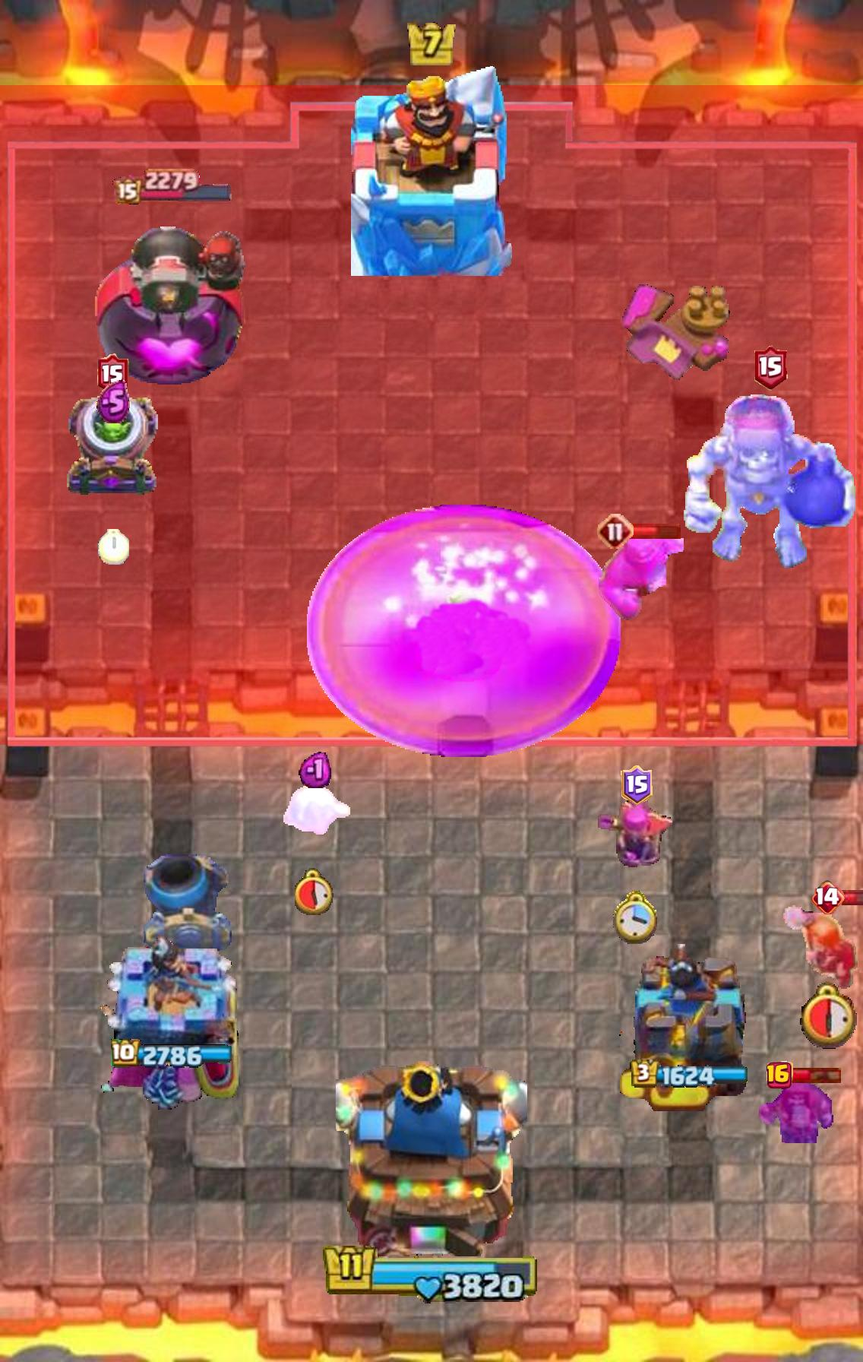bar: (789, 1066, 843, 1084), (630, 523, 681, 540), (842, 889, 863, 906)
bar-level: (754, 345, 788, 391), (597, 513, 634, 550), (97, 353, 129, 394), (621, 766, 653, 806), (811, 880, 845, 914), (766, 1061, 793, 1089)
